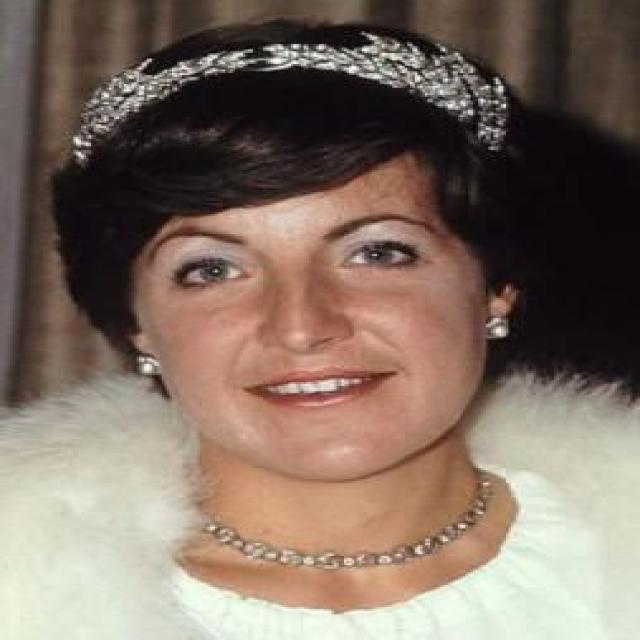Earring: (472, 302, 518, 348), (129, 341, 169, 386)
